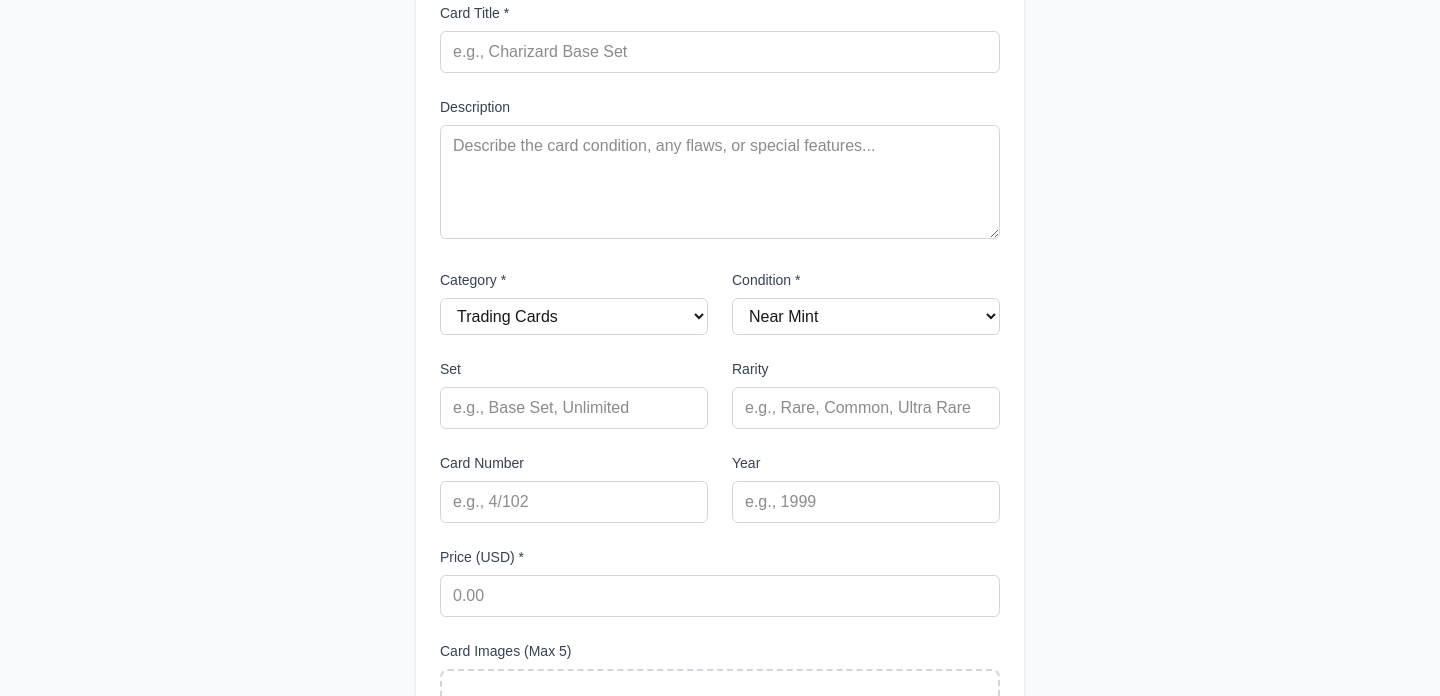
SellPage › should submit form successfully
The width and height of the screenshot is (1440, 696).
// Fill out form
Type "Charizard" into the field labelled "Card Title *".
click(720, 52); type("Charizard")  # box [440, 31, 1000, 73]
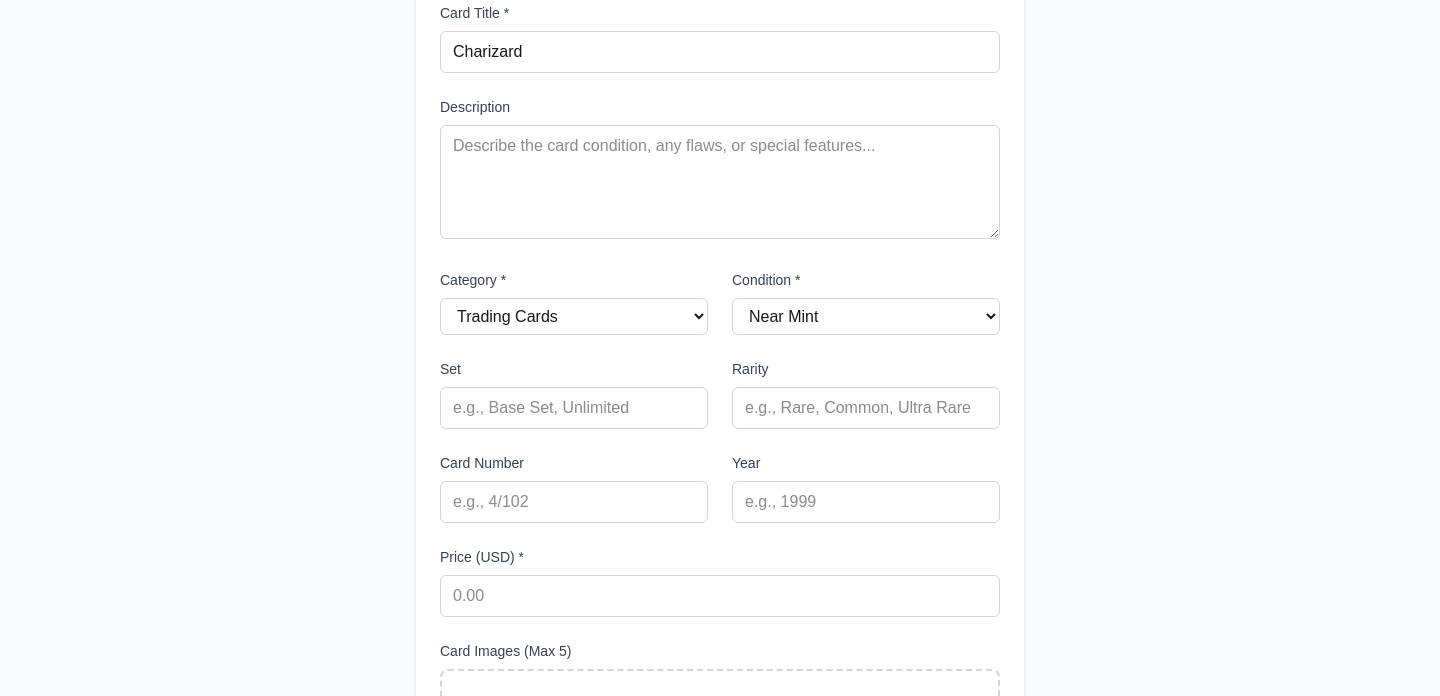
Type "100" into the number field labelled "Price (USD) *".
click(720, 596); type("100")  # box [440, 575, 1000, 617]
(page scrolled)
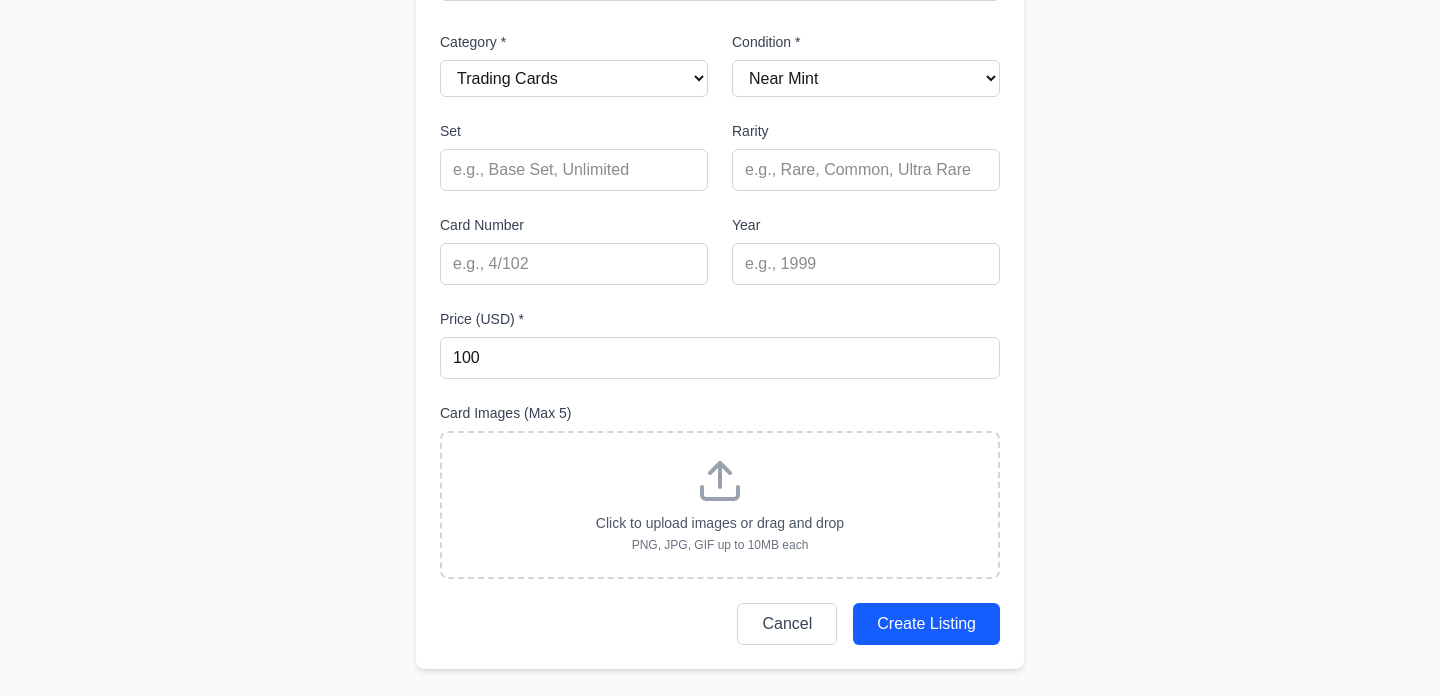
// Submit form
Click the button "Create Listing".
click(927, 624)  # box [853, 603, 1000, 645]
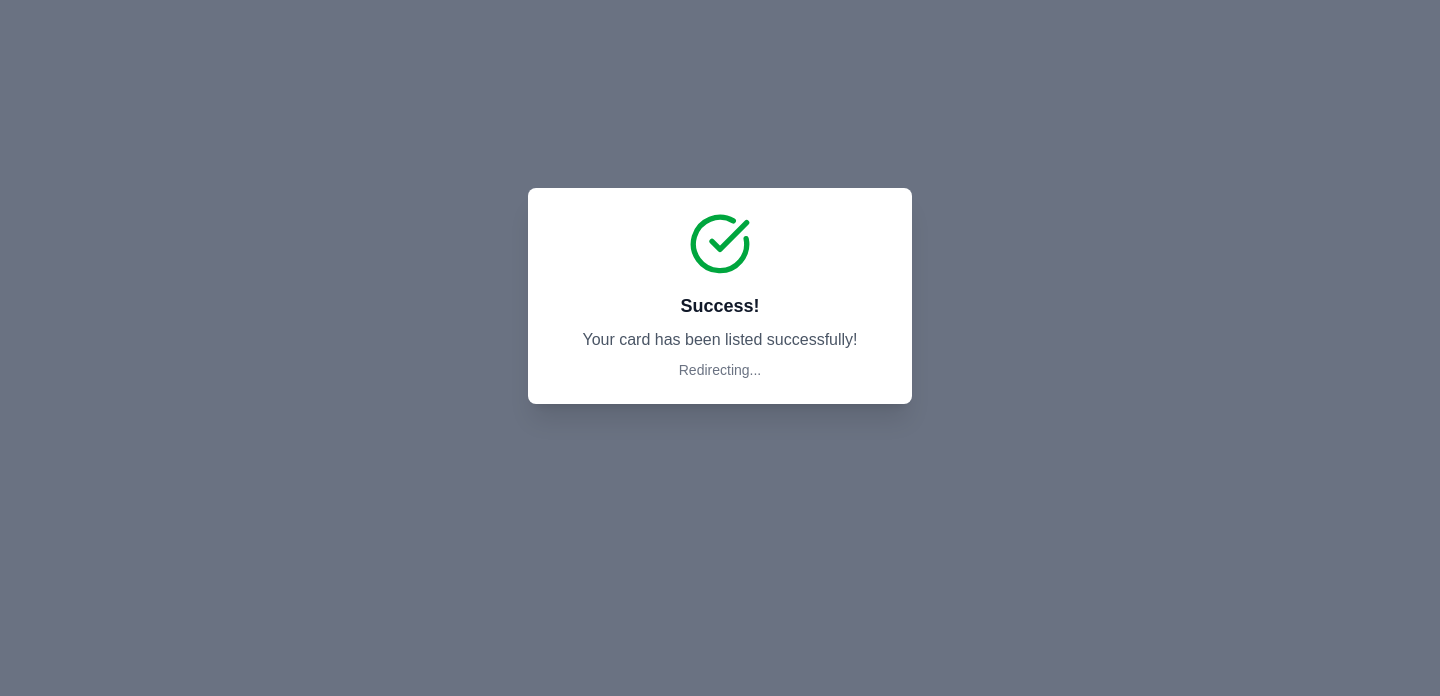
Expected: the heading "Creating Your Listing" is shown, [680, 296, 760, 316]
Expected: the text "Your card has been listed successfully!" is shown, [582, 331, 858, 348]
